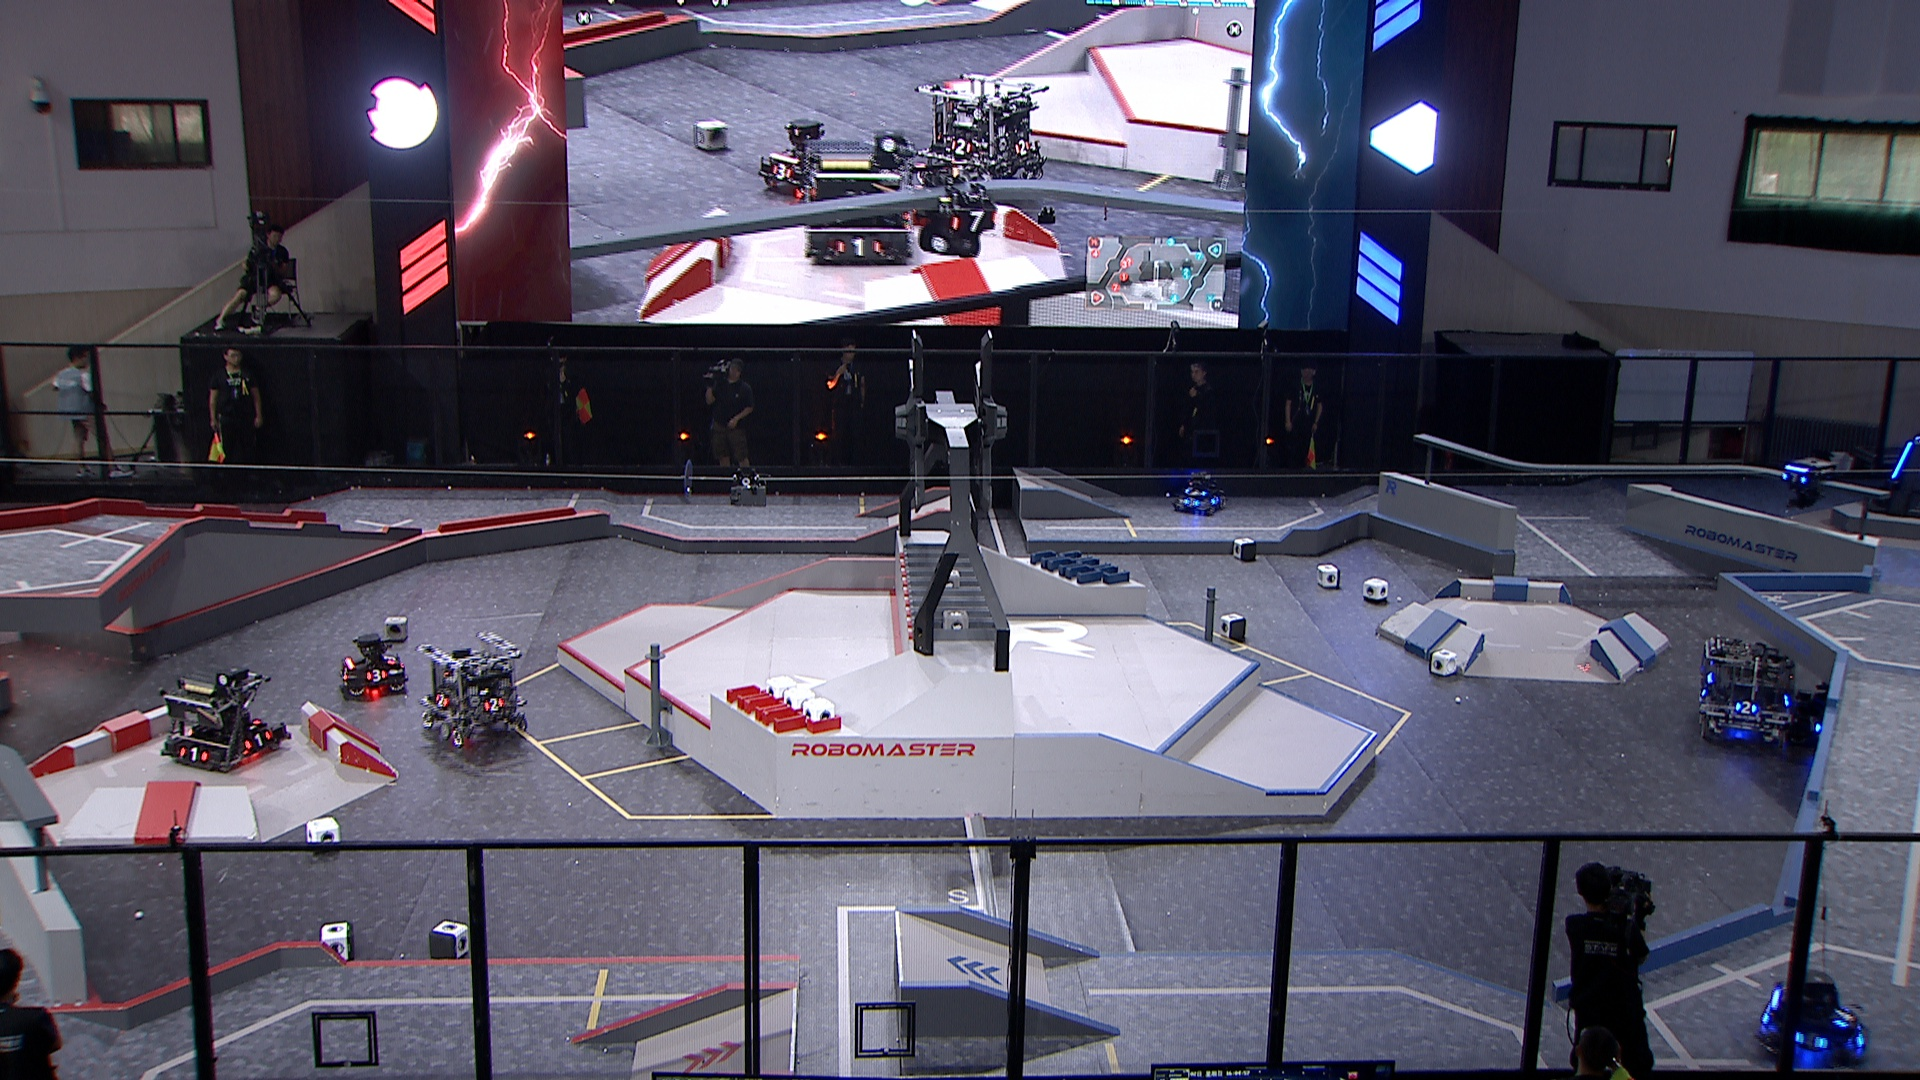armor: (1892, 442, 1915, 479), (1797, 1029, 1826, 1052), (177, 745, 211, 765), (1830, 1006, 1855, 1030), (244, 731, 273, 750), (1735, 698, 1760, 717), (1782, 471, 1809, 487), (1807, 713, 1822, 737), (483, 698, 506, 712), (434, 694, 452, 711), (367, 669, 386, 684), (381, 651, 400, 666), (1182, 498, 1203, 509), (339, 666, 351, 683), (1185, 491, 1209, 498), (1211, 495, 1221, 506)
base: (1865, 436, 1920, 522)
car: (161, 666, 294, 775), (419, 629, 529, 752), (1698, 632, 1797, 746), (1755, 971, 1869, 1065), (1803, 665, 1888, 752), (338, 633, 413, 698), (1168, 471, 1228, 518)
ignore: (913, 73, 1054, 187), (799, 136, 913, 266), (911, 153, 1000, 264), (754, 117, 828, 200)
watcher: (1780, 456, 1837, 513)
